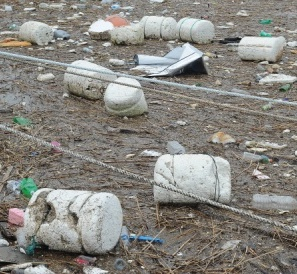buoy: (20, 187, 122, 254), (151, 154, 232, 207), (62, 59, 115, 100), (102, 76, 147, 116), (236, 33, 286, 62), (175, 16, 214, 44), (139, 13, 177, 39), (18, 20, 53, 44)
